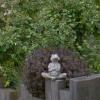Statue: (35, 47, 65, 93)
